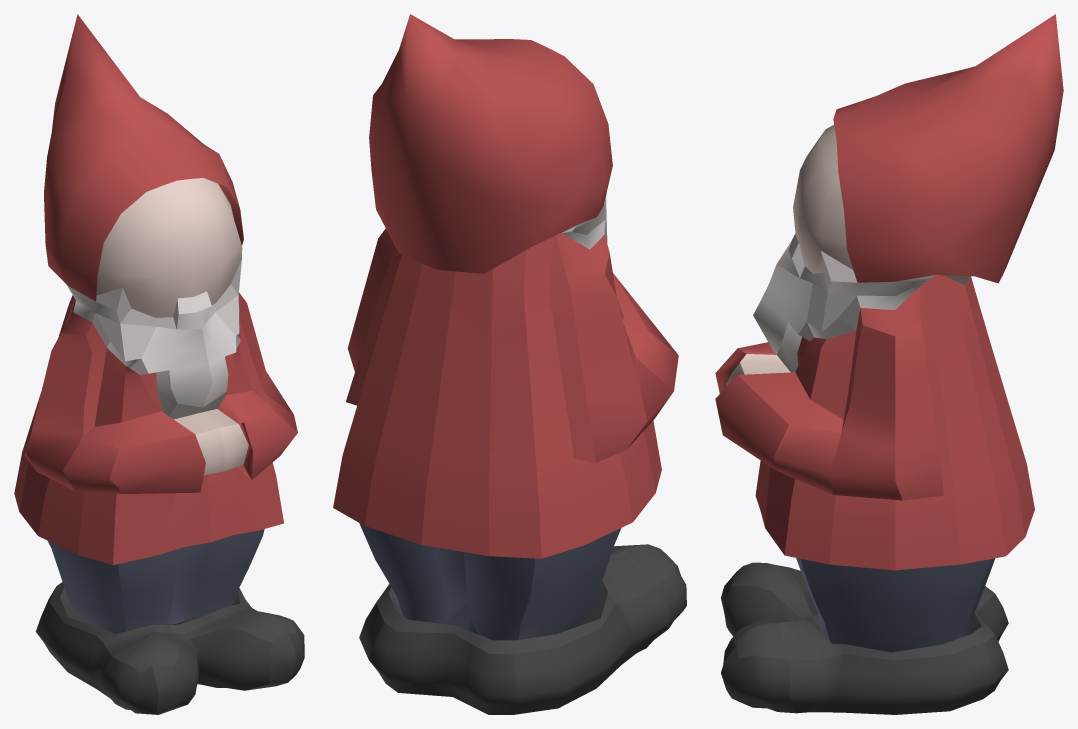
File: gnomeModel01.fbx
3 views of the same model, side by side, from view 1: azimuth 30°, elevation 25°; view 2: azimuth 150°, elevation 25°; view 3: azimuth 270°, elevation 25° (orthographic). The views are drawn at different scales.
Visible parts, largest first — view 1: pCube1; view 2: pCube1; view 3: pCube1.
Boxes of the visible parts, x1,y1,x2,y2 form: pCube1: (14,14,304,714); pCube1: (333,14,686,714); pCube1: (715,14,1063,714).
Size of the model in its own units: 17.68 by 40.27 by 19.36.
